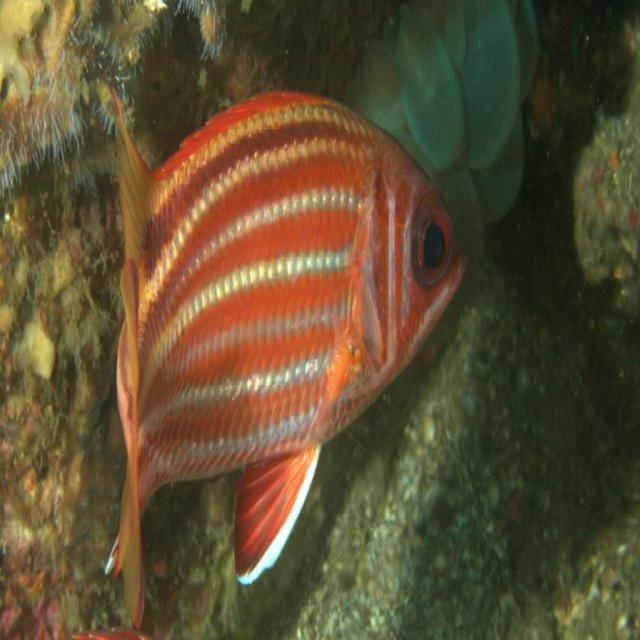Asker Baligi: (104, 61, 477, 633)
